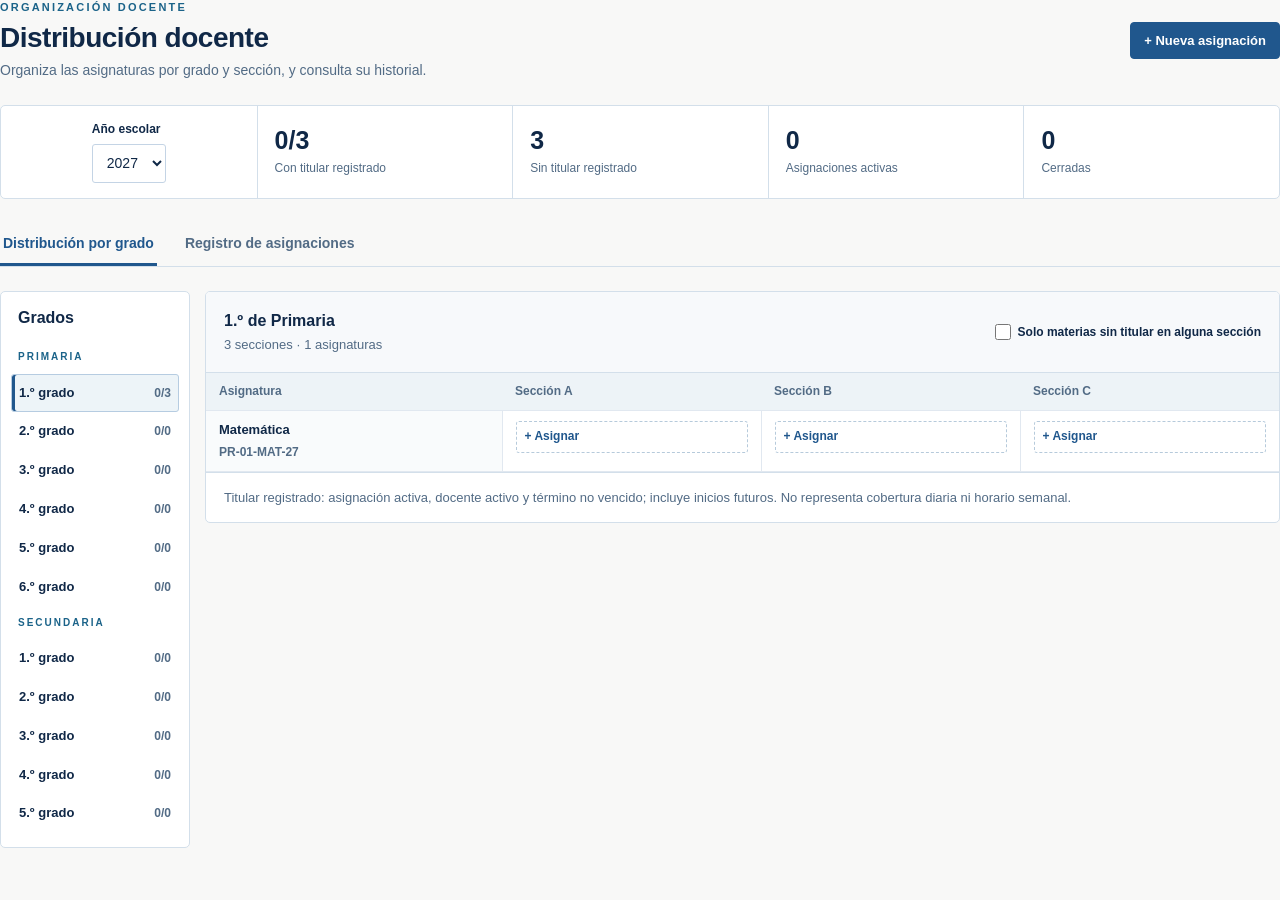
Asignaciones docentes › mantiene el diálogo y los valores si el servidor rechaza el lote
The image size is (1280, 900).
Click the button with aria-label "Asignar Matemática a sección A".
click(632, 437)  # box [516,421,748,453]
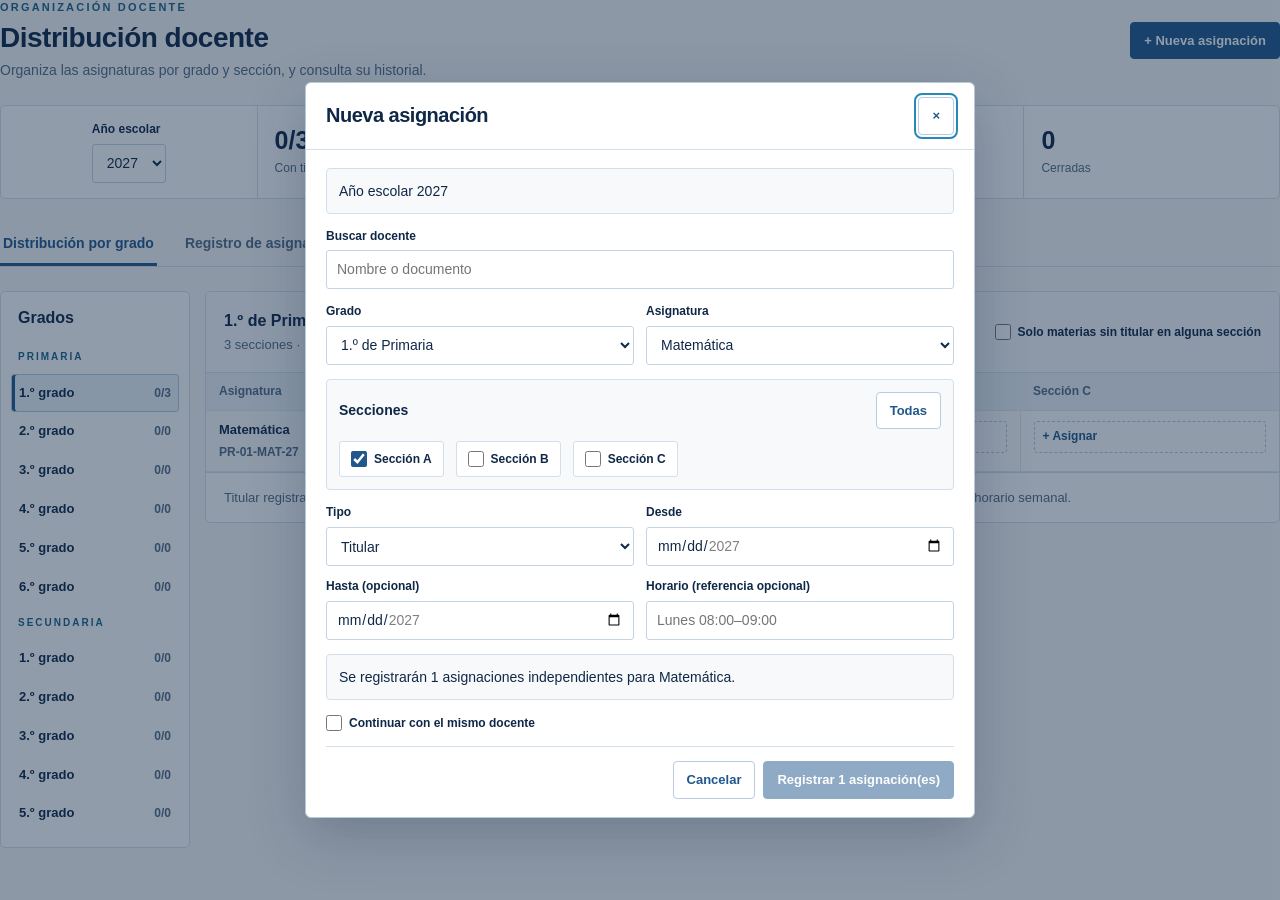
Type "Ana" into the field labelled "Buscar docente".
click(640, 270); type("Ana")  # box [326,250,954,289]
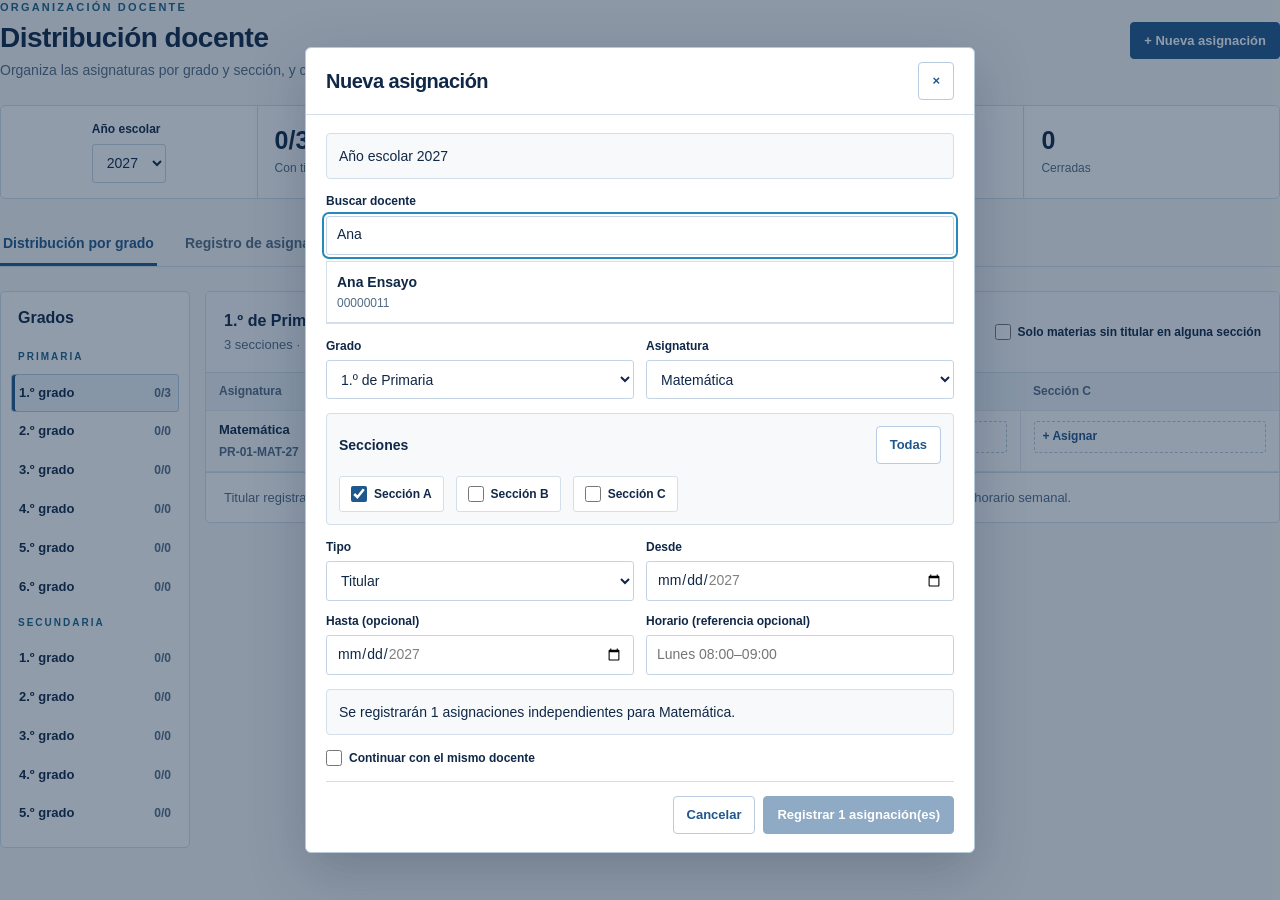
Click the button "Ana Ensayo 00000011".
click(377, 282)  # box [327,262,953,323]
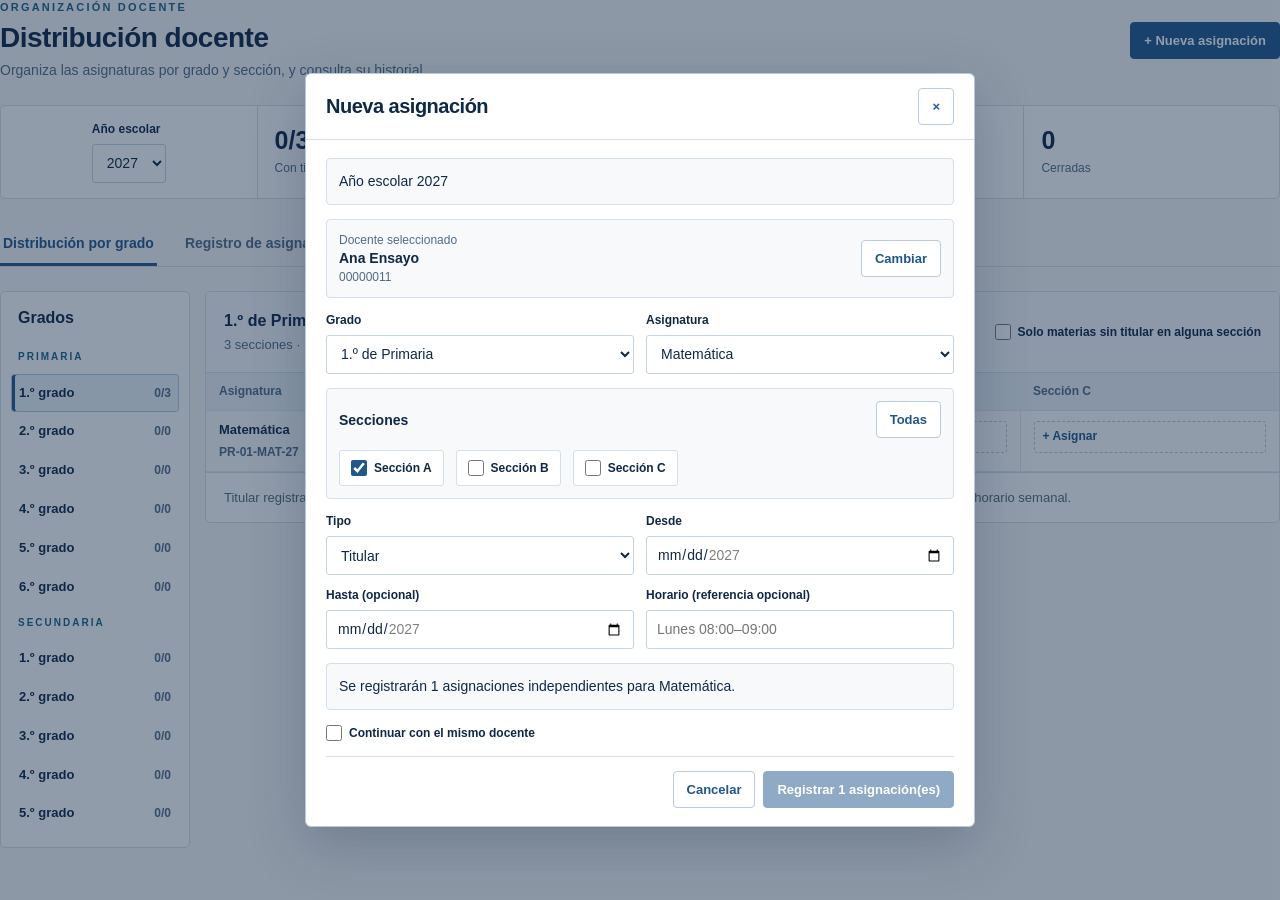
Click the button "Todas".
click(908, 420)  # box [876,401,941,438]
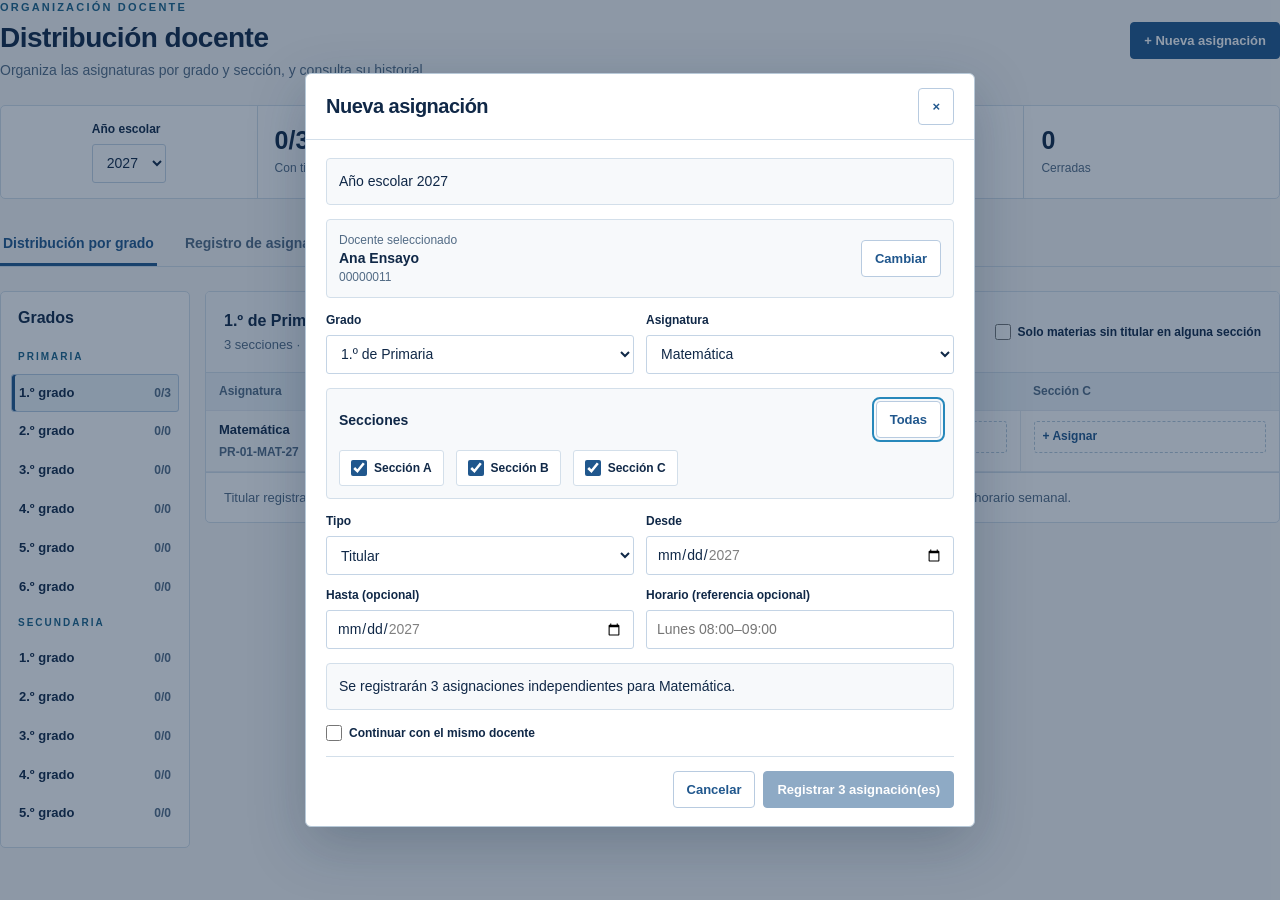
Type "2027-03-08" into the date field labelled "Desde".
click(800, 556); type("2027-03-08")  # box [646,536,954,575]
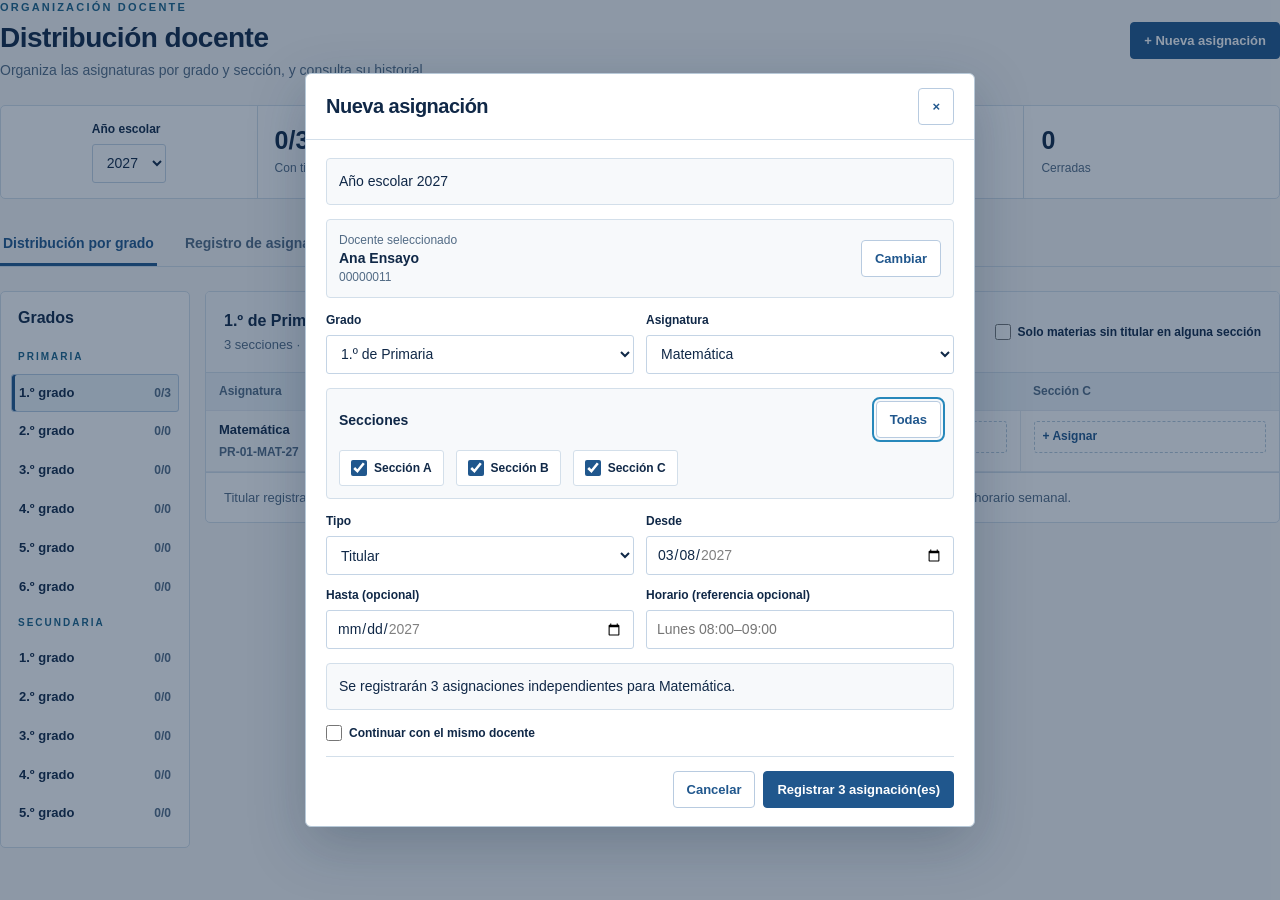
Click the button "Registrar 3 asignación(es)".
click(859, 789)  # box [763,771,954,808]
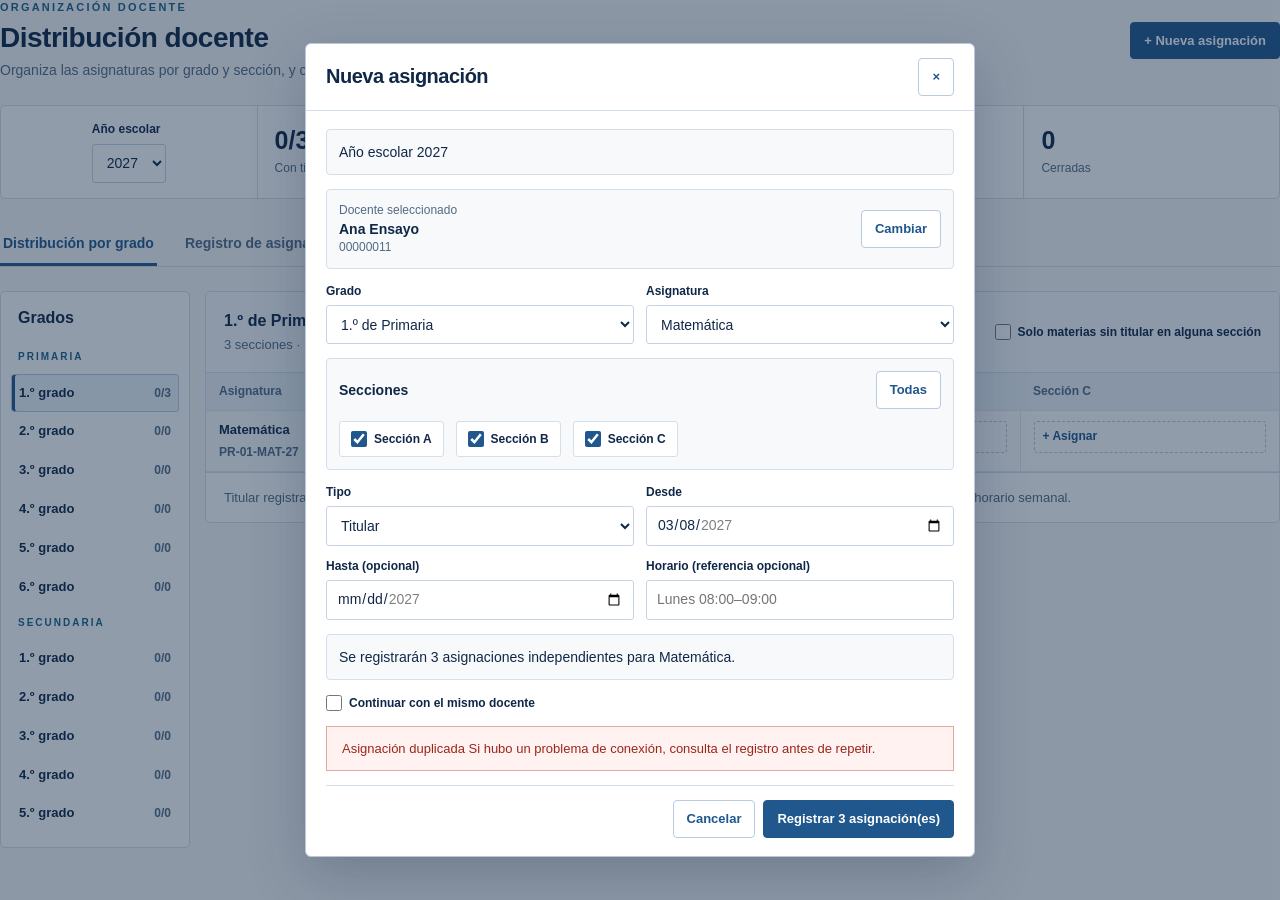
expect the message shows "Asignación duplicada": met, box [342,741,875,756]
